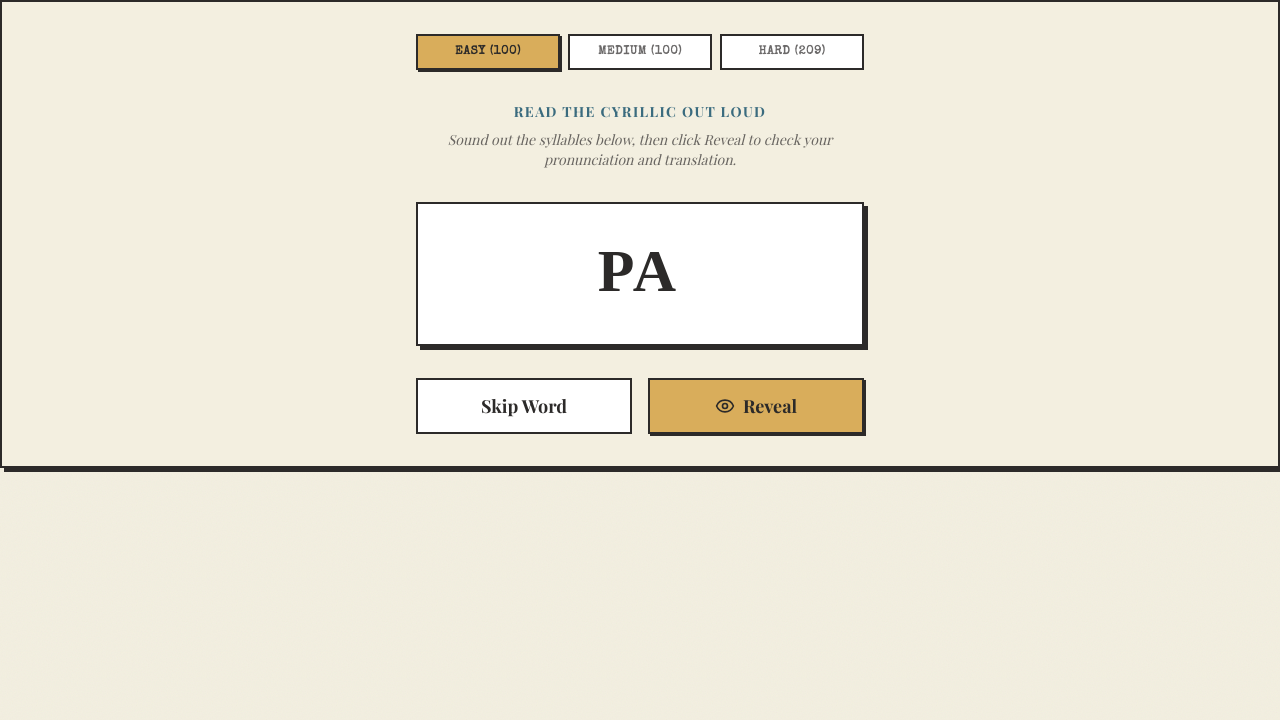
Test: ReadingTrainer Component › reveals pronunciation and Wiktionary link when Reveal button is clicked
The width and height of the screenshot is (1280, 720).
Step 1. Click the button "Reveal" → (756, 406), box top-left (648, 378), bottom-right (864, 434)
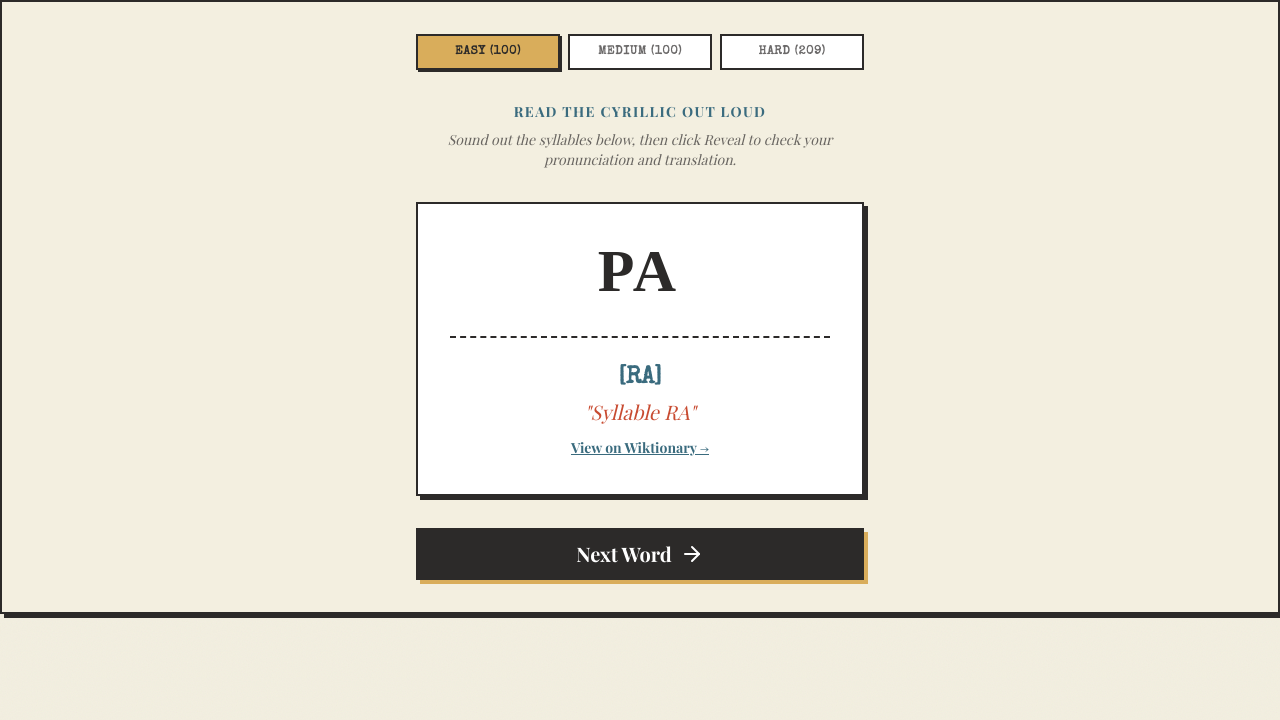
expect the link "View on Wiktionary →" is shown: met, box top-left (571, 438), bottom-right (709, 458)
